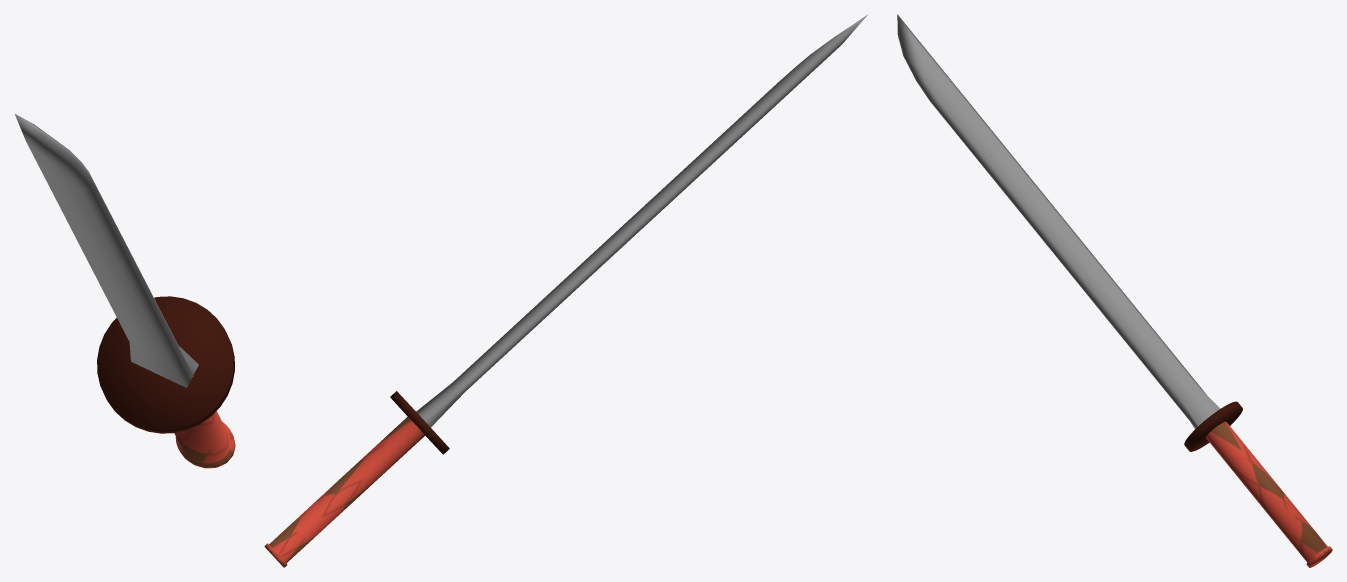
The model's file is katana.glb.
3 renders of one model, left to right at view 1: azimuth 30°, elevation 25°; view 2: azimuth 150°, elevation 25°; view 3: azimuth 270°, elevation 25°, orthographic. The views are drawn at different scales.
Parts seen in each view (by area): view 1: Sword; view 2: Sword; view 3: Sword.
Part boxes in pixels (x1,y1,x2,y2): Sword: (15,114,235,468); Sword: (264,14,868,567); Sword: (897,14,1332,567).
Size of the model in its own units: 10.69 by 12.98 by 12.67.
3 materials, 1 textured.
